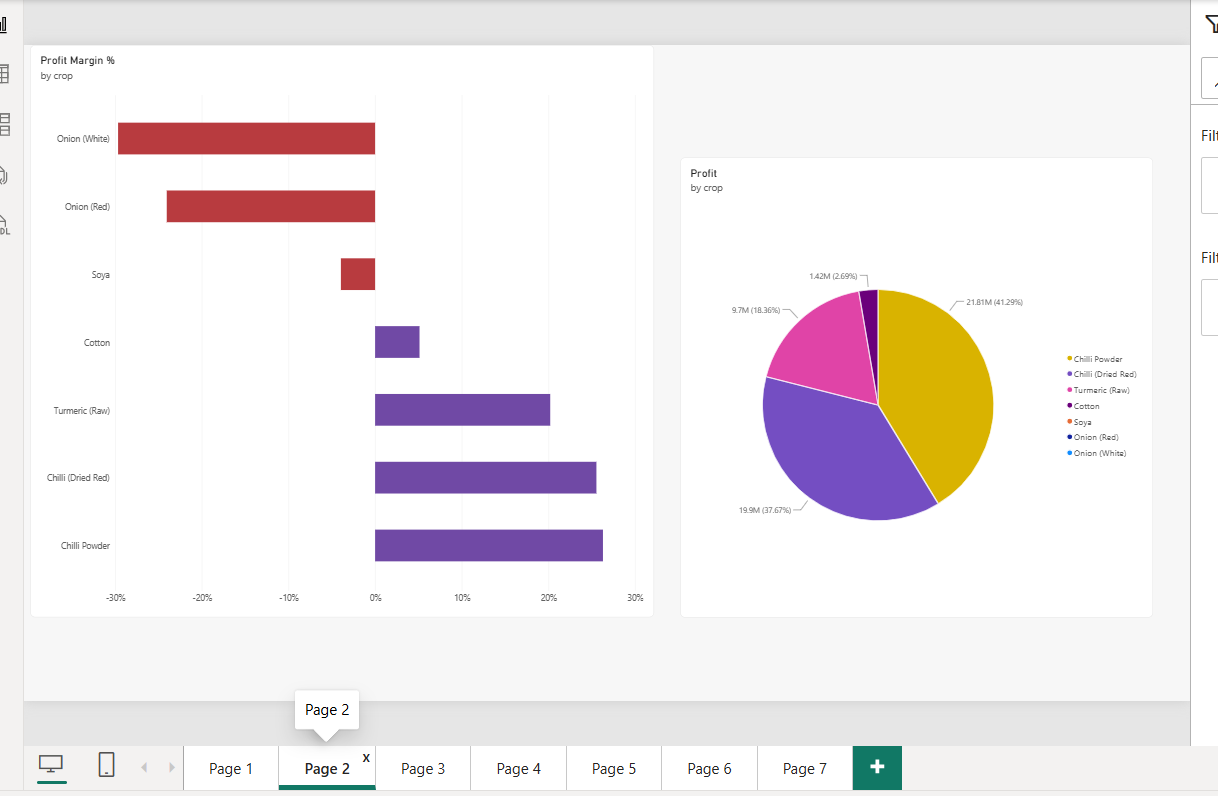

Layout of this report page (visuals, bound fields, positions):
{"tool":"powerbi","page":{"name":"Page 2","canvas":[1920,1080],"ordinal":1},"visuals":[{"type":"clusteredBarChart","fields":{"Category":["Dim_Crop.crop"],"Y":["Fact_Shipments.Profit Margin %"]},"box":[10.3,0,1027.1,942.7],"z":0},{"type":"pieChart","fields":{"Category":["Dim_Crop.crop"],"Y":["Fact_Shipments.Profit"]},"box":[1080.6,185.2,778,757.5],"z":1000}]}

Visuals, with their boxes on the page's 1920x1080 design canvas (x1, y1, x2, y2). These are canvas units, not pixel positions in the 1218x796 screenshot, which may show the page scaled, cropped or inside an application window:
clusteredBarChart - Dim_Crop.crop x Fact_Shipments.Profit Margin %: pyautogui.locateOnScreen(10, 0, 1037, 943)
pieChart - Dim_Crop.crop x Fact_Shipments.Profit: pyautogui.locateOnScreen(1081, 185, 1859, 943)
